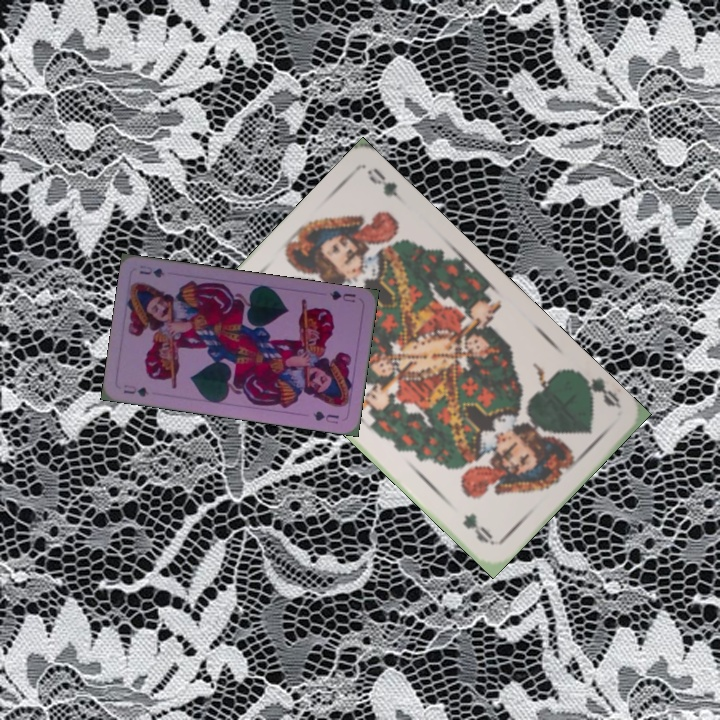GO: (574, 367, 623, 410)
GU: (120, 380, 151, 399), (326, 287, 358, 305)
